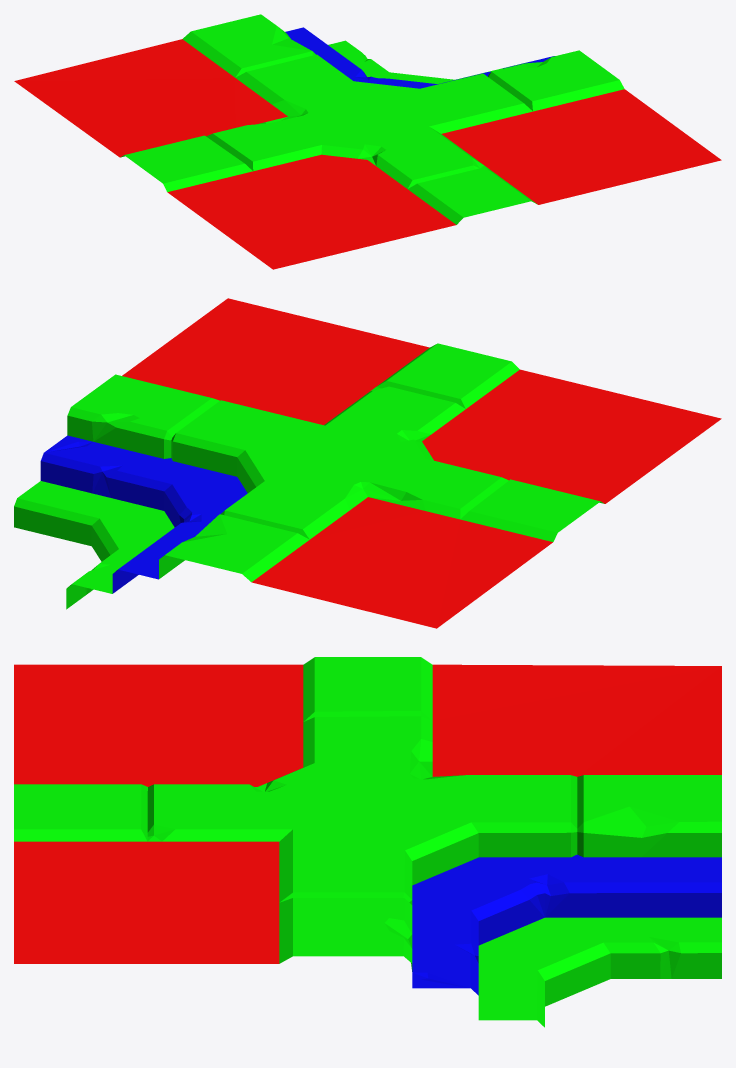
Rendered from dungeon_stairs_interiorCorner.fbx.
3 views of the same model, one above another, from view 1: azimuth 30°, elevation 25°; view 2: azimuth 150°, elevation 25°; view 3: azimuth 270°, elevation 25° (orthographic). The views are drawn at different scales.
Parts seen in each view (by area): view 1: dungeon_stairs_interiorCorner; view 2: dungeon_stairs_interiorCorner; view 3: dungeon_stairs_interiorCorner.
Boxes of the visible parts, x1,y1,x2,y2 form: dungeon_stairs_interiorCorner: [14, 14, 721, 269]; dungeon_stairs_interiorCorner: [14, 298, 721, 628]; dungeon_stairs_interiorCorner: [14, 657, 721, 1027].
Size of the model in its own units: 200 by 200 by 30.41.
